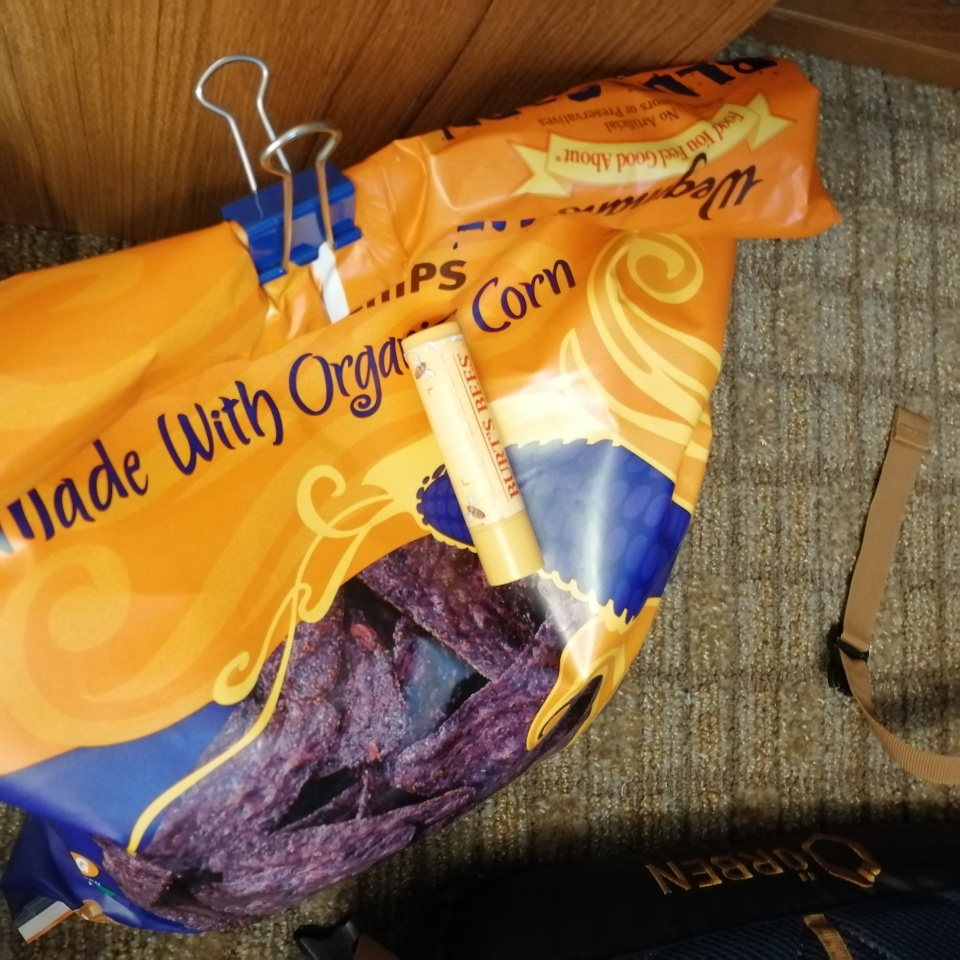chapstick: (399, 321, 547, 587)
